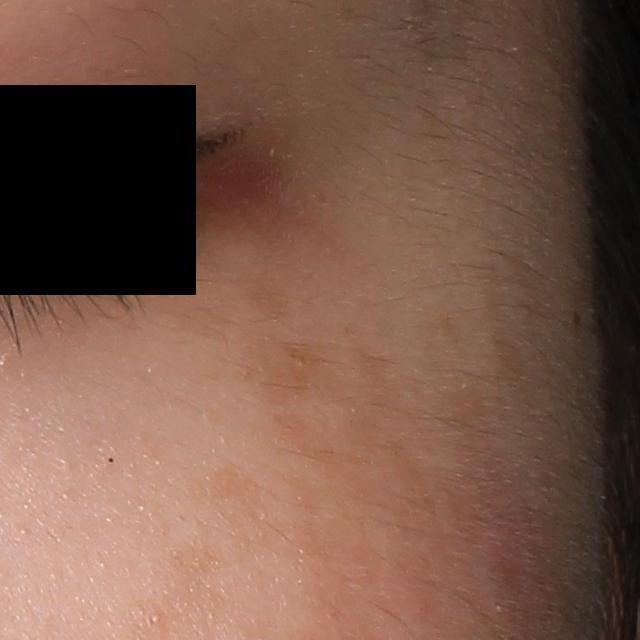melasma: (232, 319, 354, 415), (338, 341, 411, 463), (226, 262, 317, 328), (202, 456, 259, 506)
